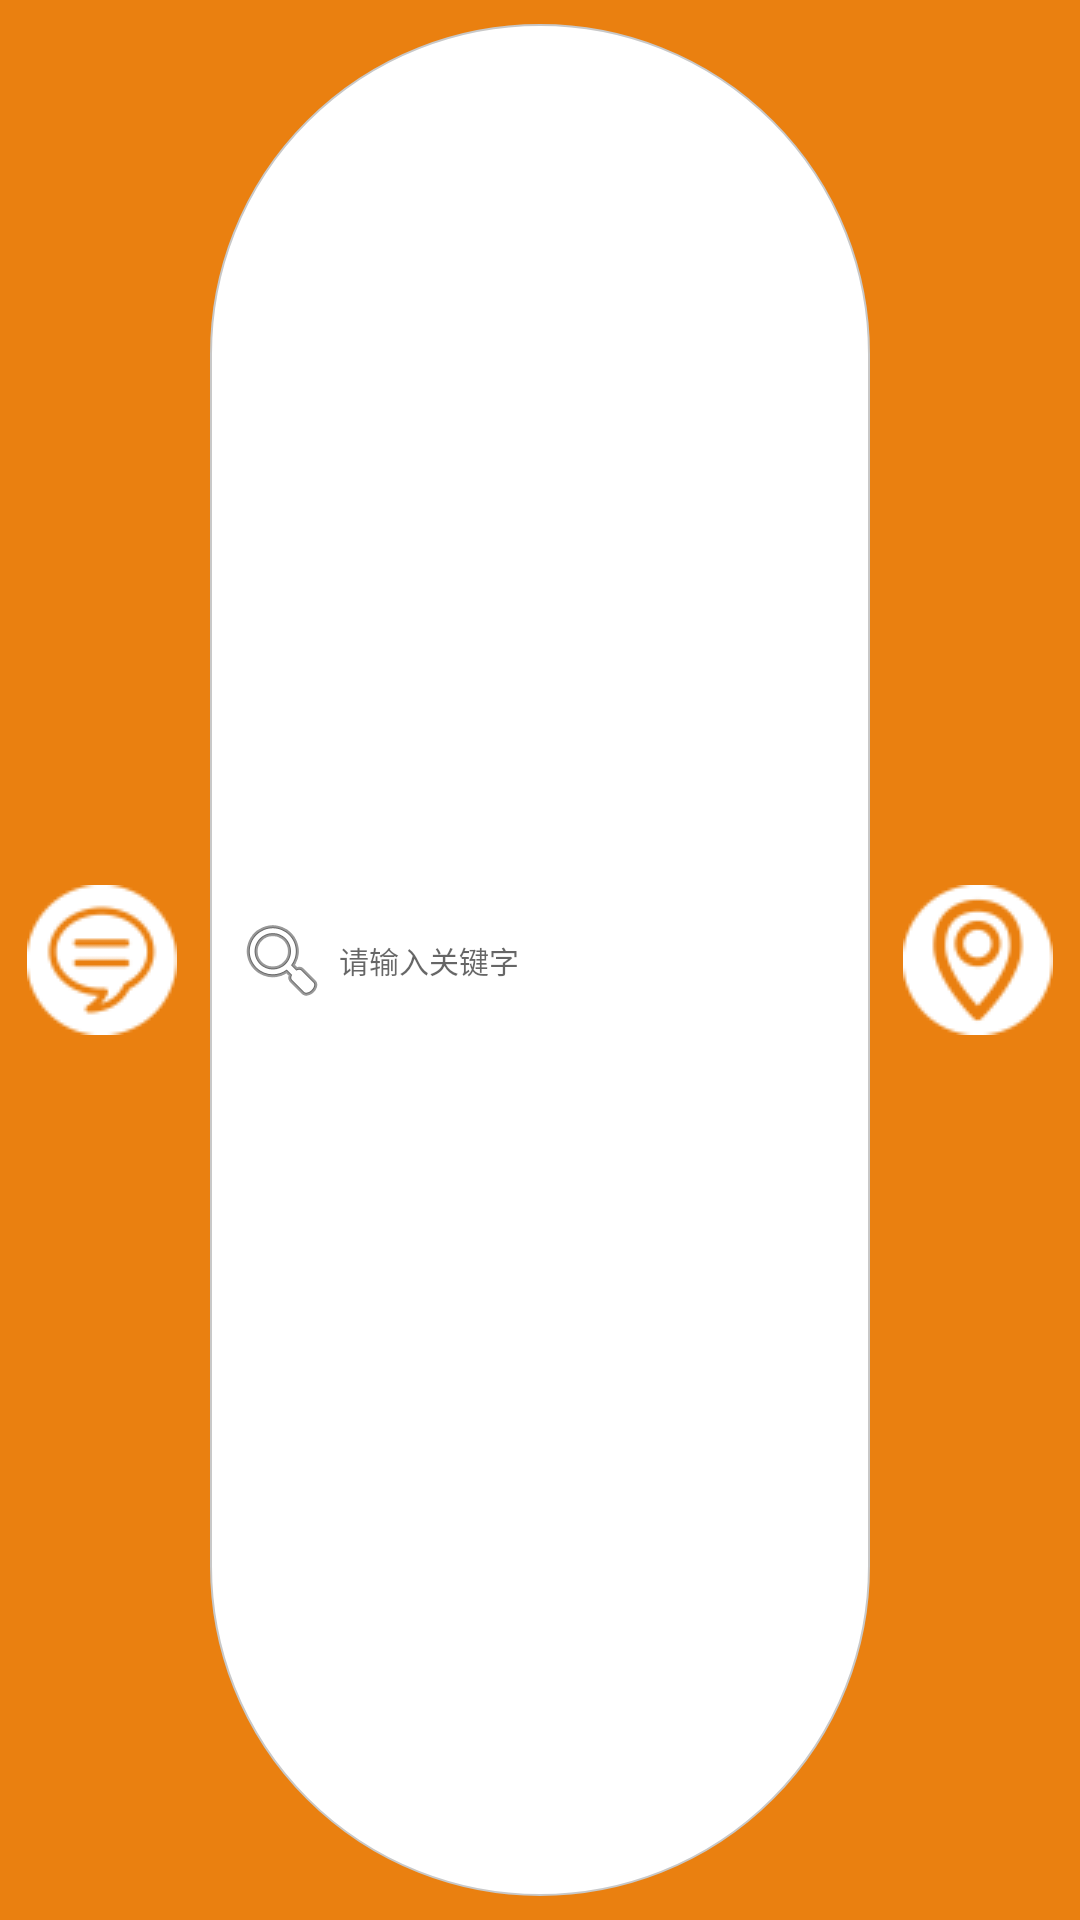

Named icons in this screenshot (1080 × 1920) and their bounding boxes, [left=x1, top=y1, right=x2, bottom=y2]:
location: [left=903, top=885, right=1053, bottom=1035]
search: [left=246, top=925, right=318, bottom=996]
